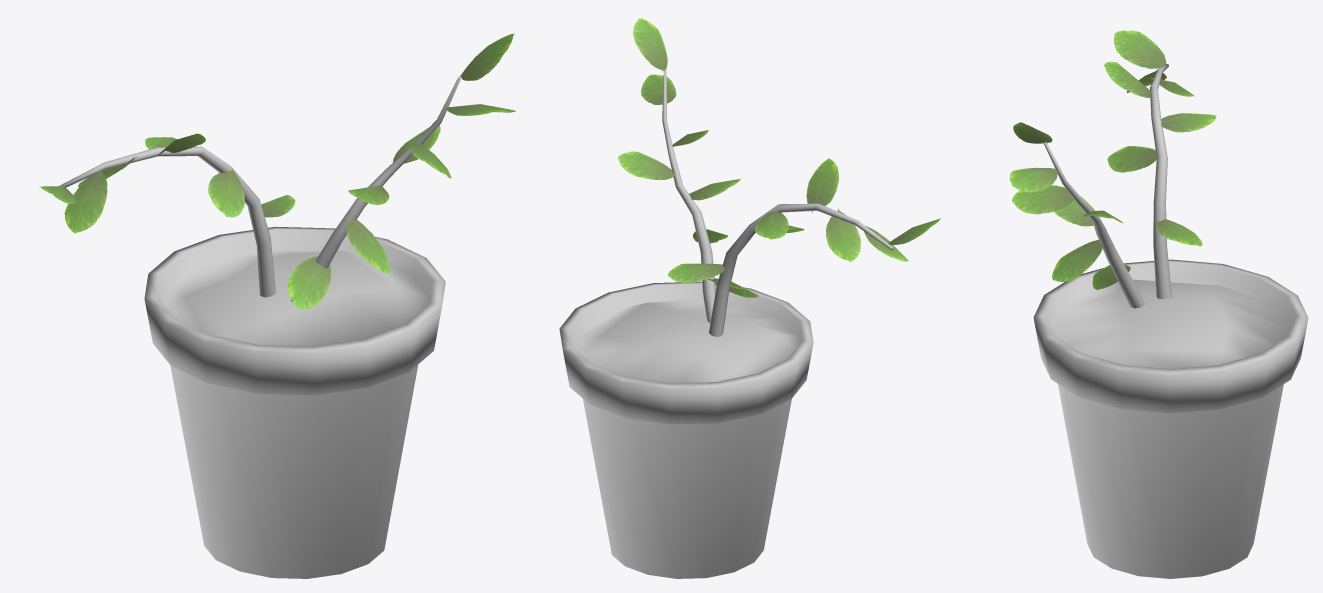
Rendered from Plantinpot.fbx.
The picture shows the model from 3 angles, left to right: view 1: azimuth 30°, elevation 25°; view 2: azimuth 150°, elevation 25°; view 3: azimuth 270°, elevation 25°; orthographic projection. The views are drawn at different scales.
Visible parts, largest first — view 1: Pot Stem, Pot Leaves; view 2: Pot Stem, Pot Leaves; view 3: Pot Stem, Pot Leaves.
Boxes of the visible parts, left/top/right/bottom form: Pot Stem: left=59, top=76, right=461, bottom=578; Pot Leaves: left=39, top=33, right=515, bottom=308; Pot Stem: left=559, top=69, right=893, bottom=578; Pot Leaves: left=618, top=18, right=940, bottom=297; Pot Stem: left=1033, top=64, right=1308, bottom=578; Pot Leaves: left=1009, top=30, right=1216, bottom=289.
Size of the model in its own units: 52.34 by 58.95 by 35.71.
